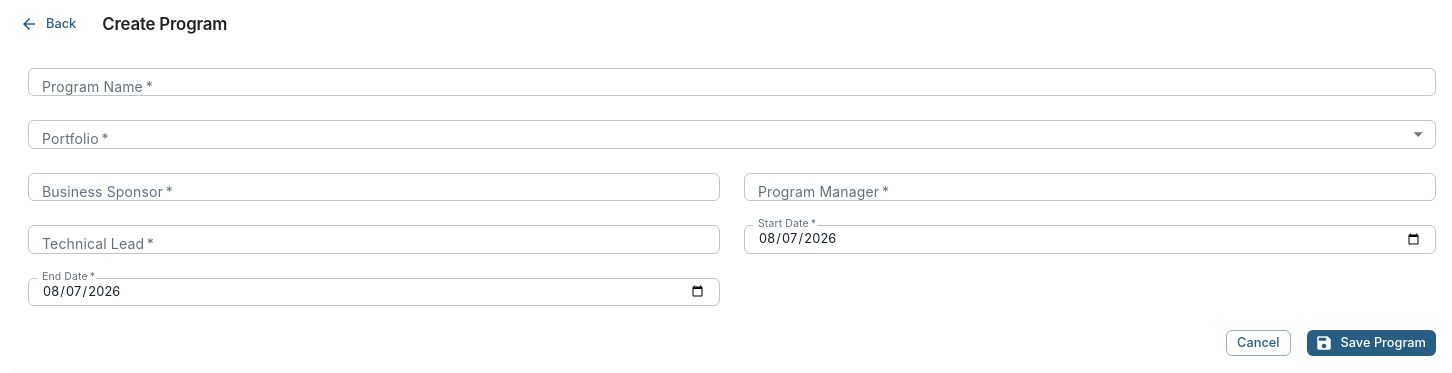
Test: ProgramFormPage › should populate dropdown with portfolios
Open the dropdown
Click the dropdown named "portfolio": (732, 135) x1=28 y1=120 x2=1436 y2=149
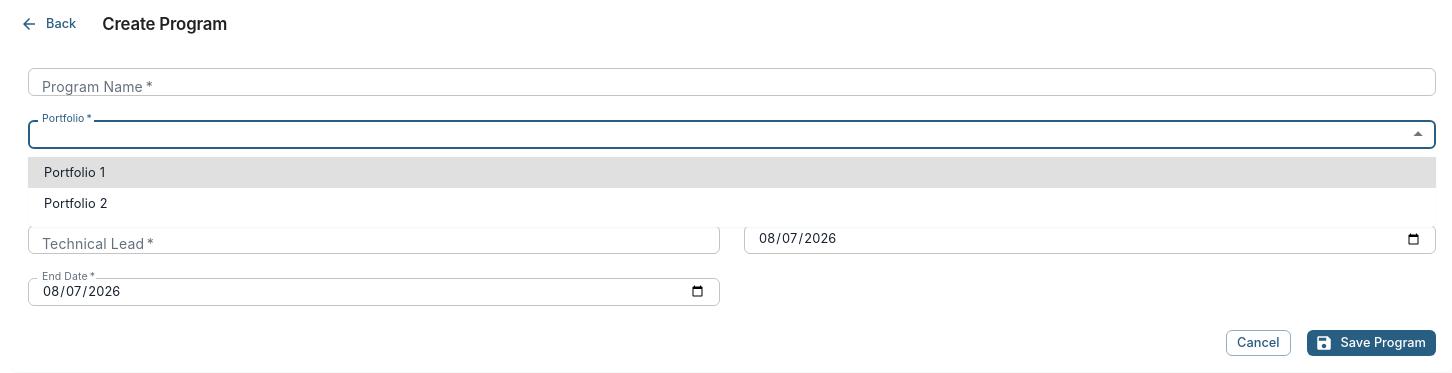
Expected: the option "Portfolio 1" is shown, x1=28 y1=157 x2=1436 y2=188
Expected: the option "Portfolio 2" is shown, x1=44 y1=196 x2=108 y2=211
